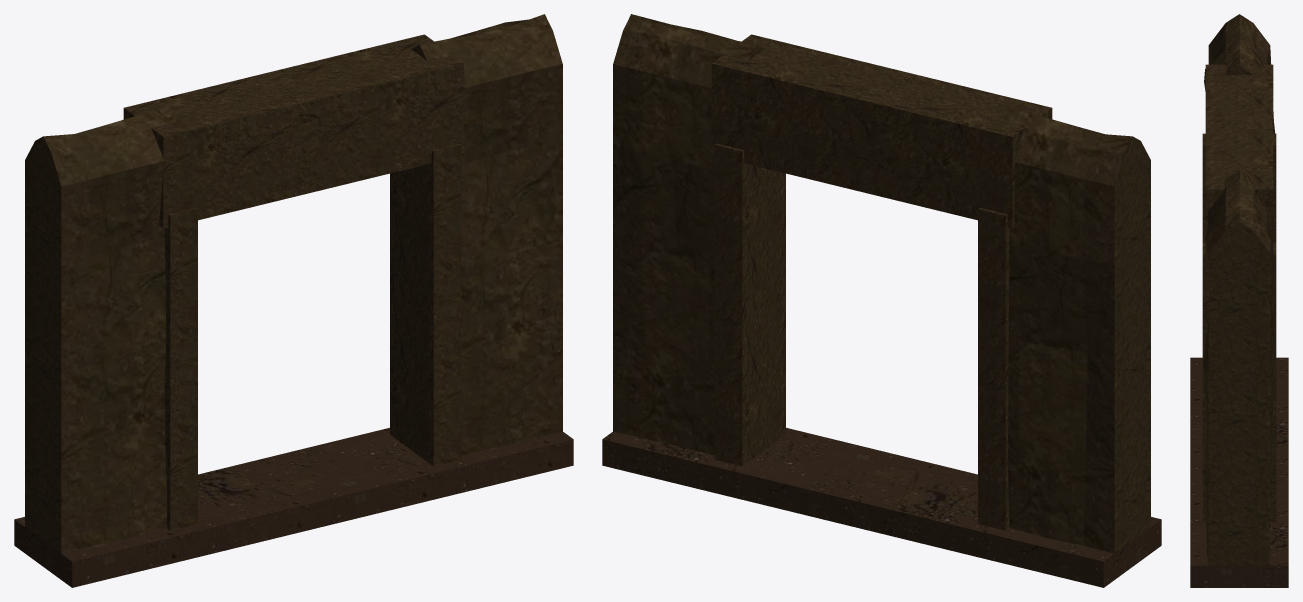
The model's file is cave_gate_01_dirt.glb.
3 views of the same model, side by side, from view 1: azimuth 30°, elevation 25°; view 2: azimuth 150°, elevation 25°; view 3: azimuth 270°, elevation 25° (orthographic). The views are drawn at different scales.
Parts seen in each view (by area): view 1: cave_gate_01_dirt; view 2: cave_gate_01_dirt; view 3: cave_gate_01_dirt.
Part boxes in pixels (x1,y1,x2,y2): cave_gate_01_dirt: (14,14,573,587); cave_gate_01_dirt: (602,14,1161,587); cave_gate_01_dirt: (1190,14,1288,587).
Bounding box in the file's own units: 4 × 3.28 × 0.7998.
2 materials, 2 textured.
